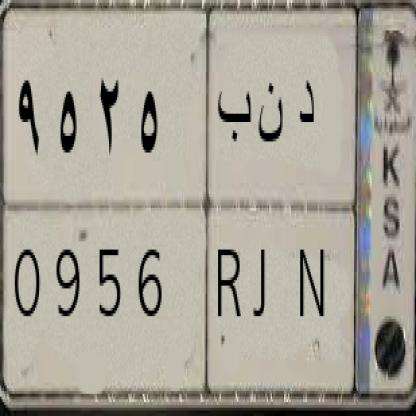english: (0, 202, 364, 416)
